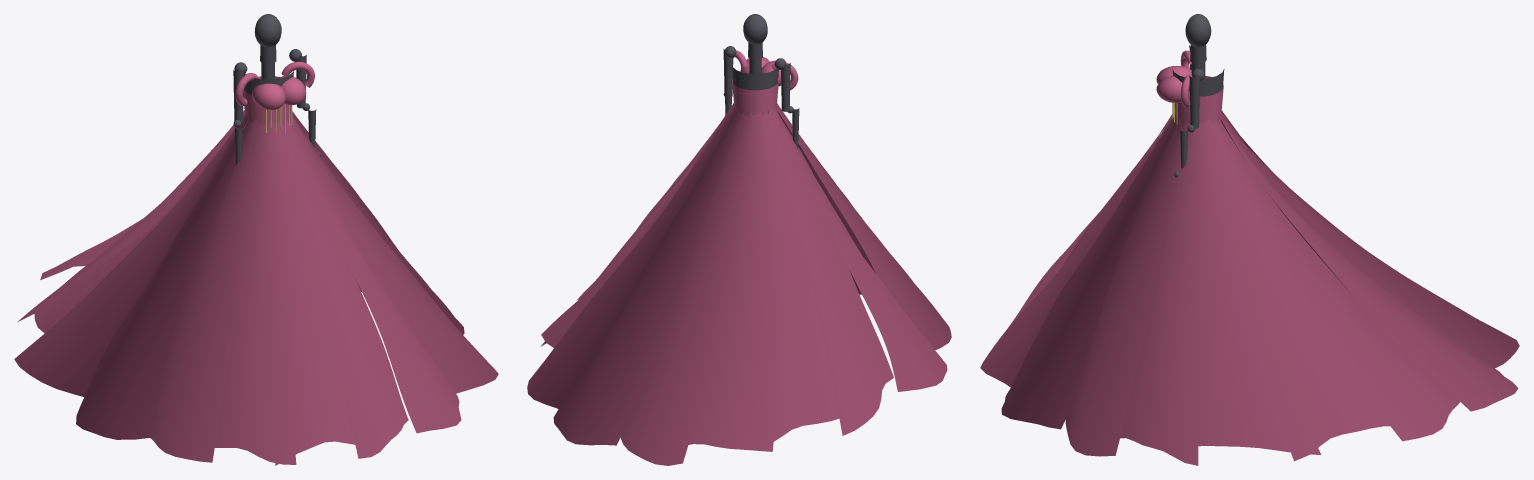
File: burgundy-gown.glb
3 views of the same model, side by side, from view 1: azimuth 30°, elevation 25°; view 2: azimuth 150°, elevation 25°; view 3: azimuth 270°, elevation 25° (orthographic). The views are drawn at different scales.
Visible parts, largest first — view 1: Node_Mat_0, Node_Mat_1; view 2: Node_Mat_0, Node_Mat_1; view 3: Node_Mat_0, Node_Mat_1.
Boxes of the visible parts, box(x1,y1,x2,y2) form: Node_Mat_0: box(14, 61, 498, 465); Node_Mat_1: box(233, 14, 321, 164); Node_Mat_0: box(527, 50, 951, 465); Node_Mat_1: box(723, 14, 801, 149); Node_Mat_0: box(980, 50, 1519, 465); Node_Mat_1: box(1172, 14, 1224, 177).
Size of the model in its own units: 2.5 by 2.32 by 3.02.
